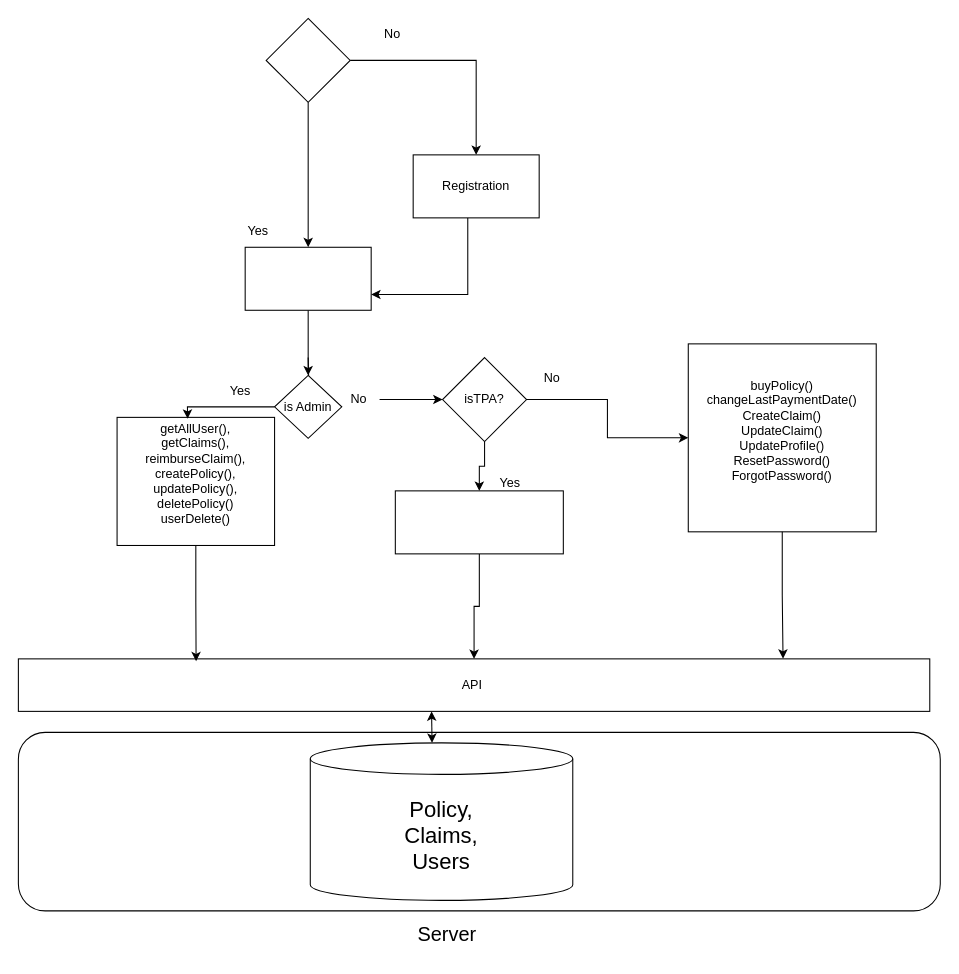
This 959x974 diagram has some shape labels left out. The centre of each missing label's shape, as x and y in pixels:
"ChangeClaimStatus()" belongs at pixel 478 522.
"isRegistered" belongs at pixel 307 59.
"Login" belongs at pixel 307 278.
